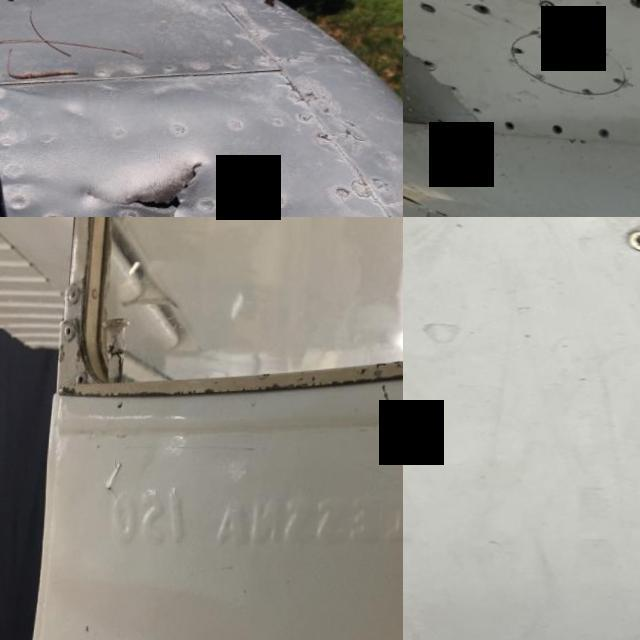Crack: (50, 349, 403, 408), (80, 127, 229, 217), (83, 432, 141, 518), (364, 371, 403, 428)
Missing_Fastener: (473, 6, 493, 16), (625, 0, 640, 12), (506, 122, 516, 132), (556, 126, 564, 136), (403, 30, 407, 42)
